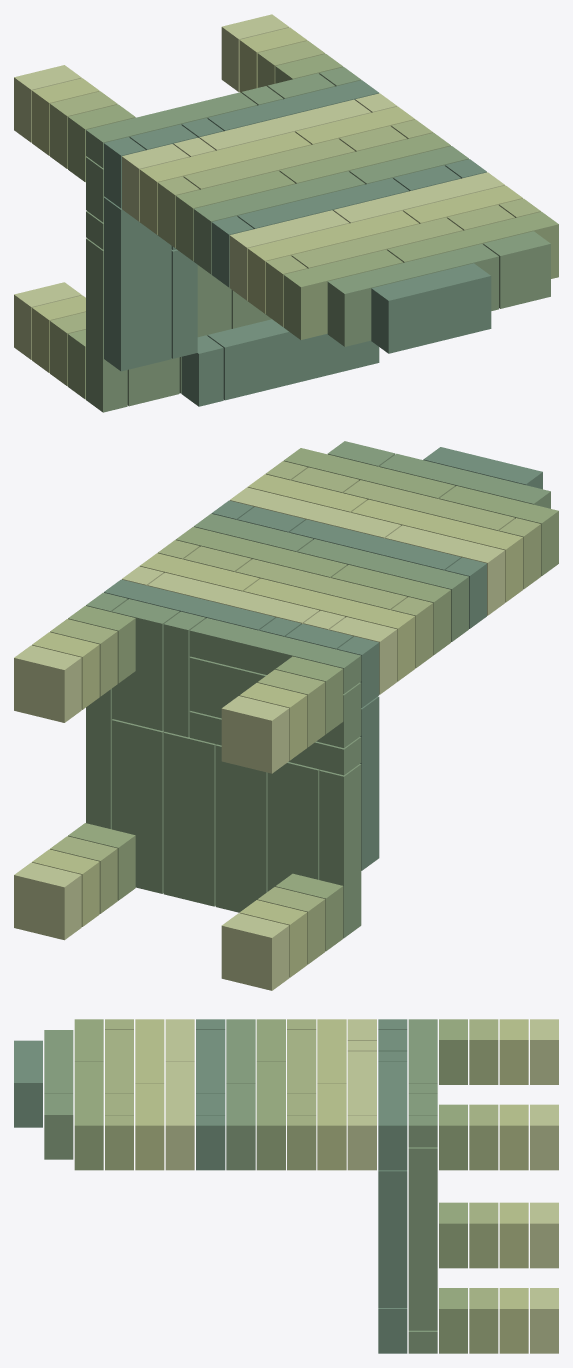
File: structure.glb
3 renders of one model, top to bottom at view 1: azimuth 30°, elevation 25°; view 2: azimuth 150°, elevation 25°; view 3: azimuth 270°, elevation 25°, orthographic. The views are drawn at different scales.
Visible parts, largest first — view 1: geometry_0; view 2: geometry_0; view 3: geometry_0.
Boxes of the visible parts, x1=… form: geometry_0: x1=14, y1=14, x2=558, y2=412; geometry_0: x1=14, y1=441, x2=558, y2=990; geometry_0: x1=14, y1=1019, x2=558, y2=1353.
Size of the model in its own units: 9.95 by 9.95 by 21.55.
